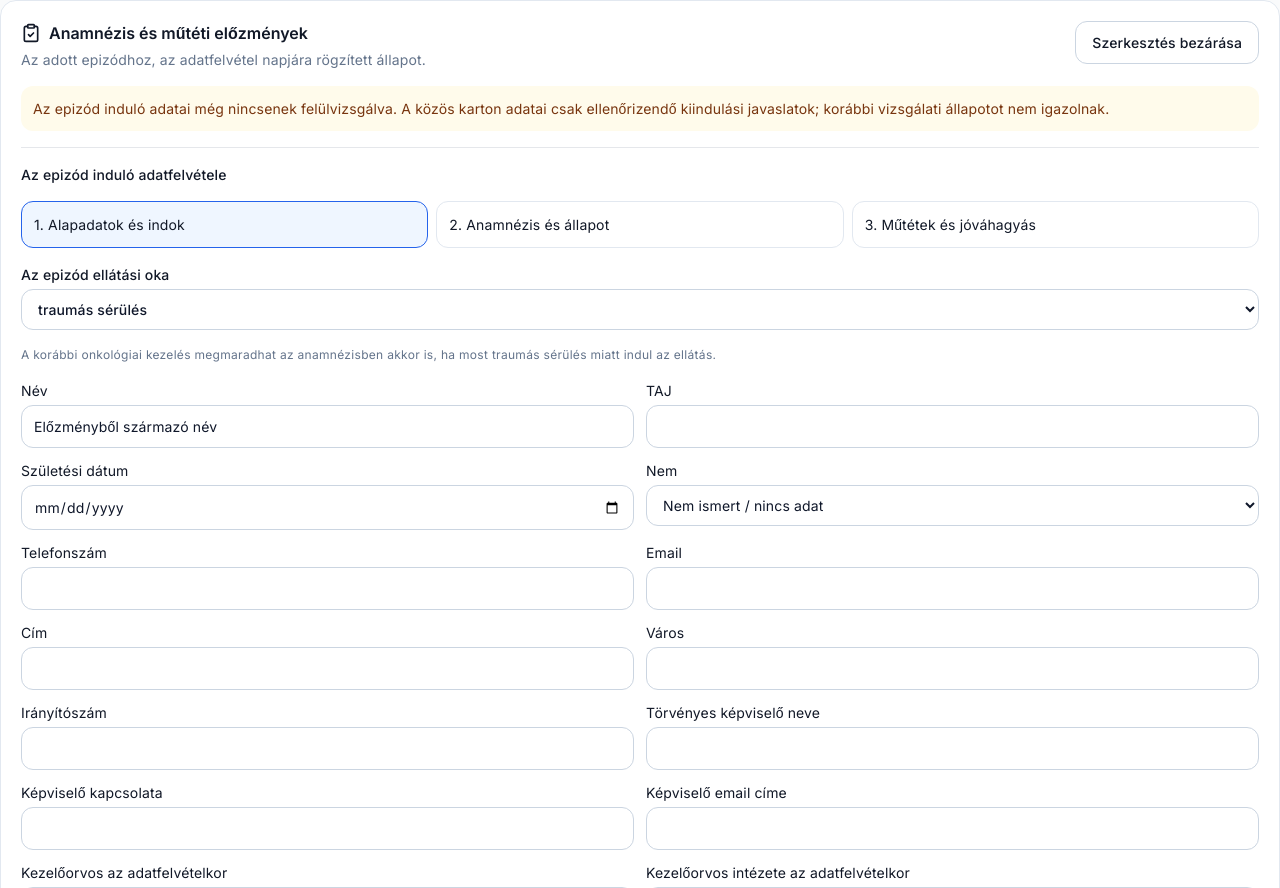
Test: Episode clinical review workflow › marks chart suggestions as unreviewed and never silently creates a past examination
Expected: the text "Az epizód induló adatai még nincsenek felülvizsgálva" is shown, x1=33 y1=100 x2=1109 y2=117
Expected: the field labelled "Név" holds "Előzményből származó név", x1=21 y1=405 x2=634 y2=448
Click the button "3. Műtétek és jóváhagyás". click: (959, 224)
box: x1=852 y1=201 x2=1259 y2=248
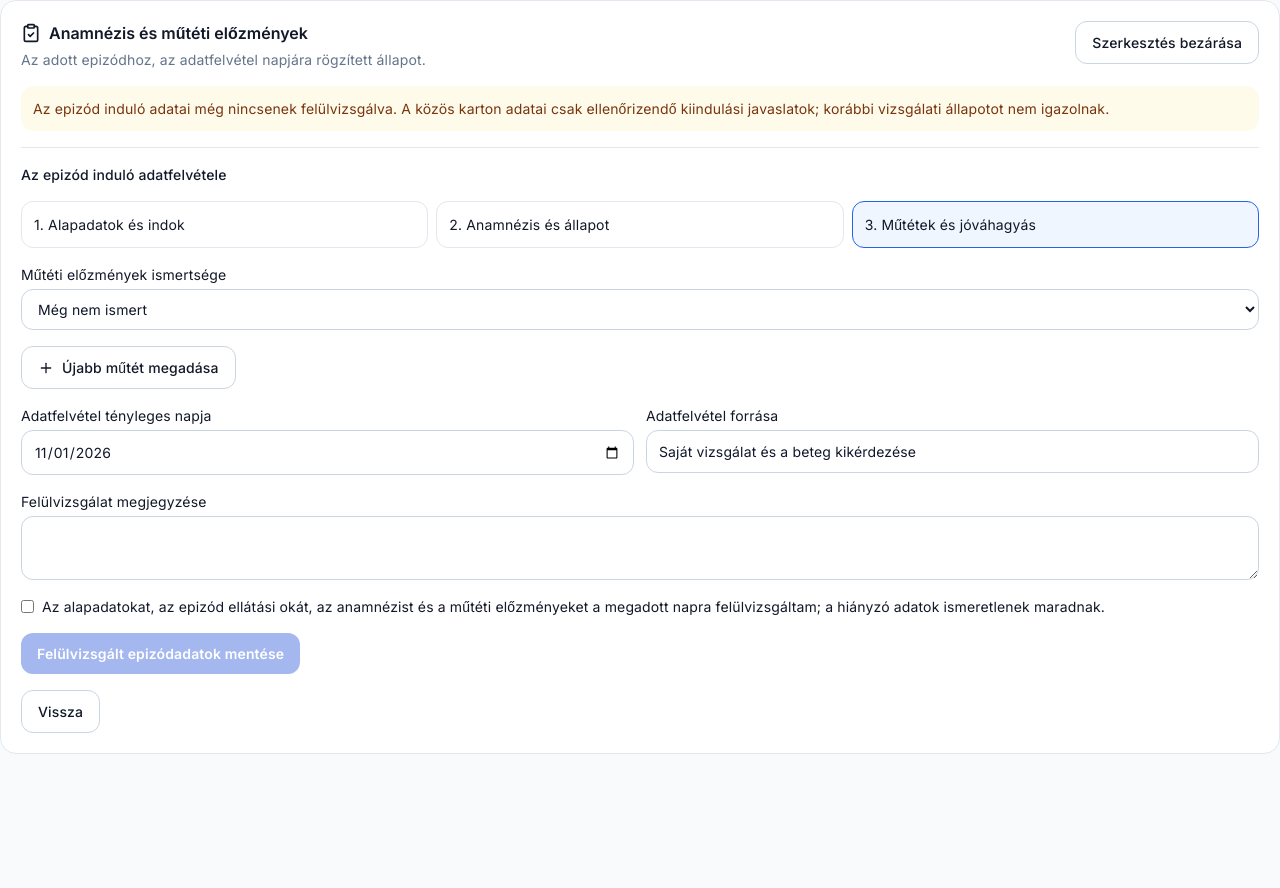
Expected: the button "Felülvizsgált epizódadatok mentése" is disabled, x1=21 y1=633 x2=300 y2=674
